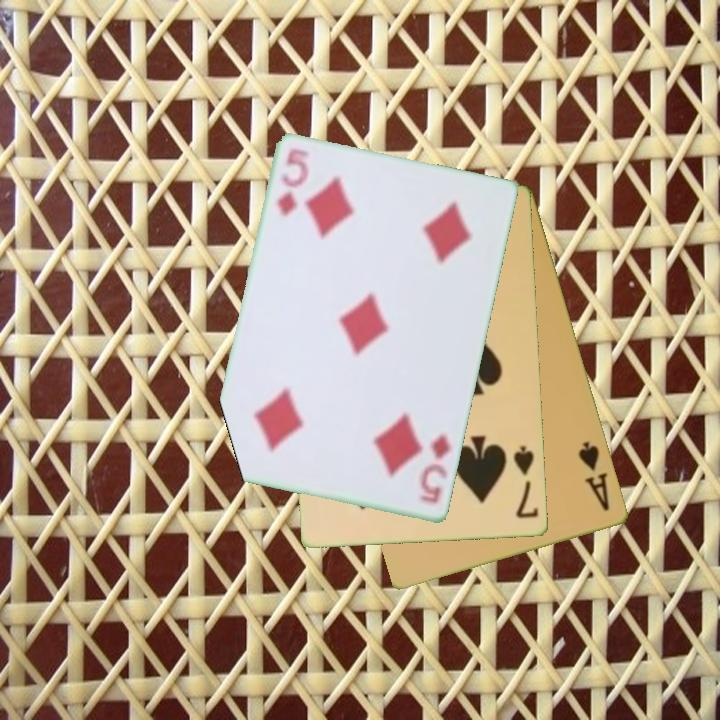5d: (415, 430, 454, 507), (274, 145, 312, 221)
7s: (510, 443, 542, 522)
As: (575, 438, 613, 514)
